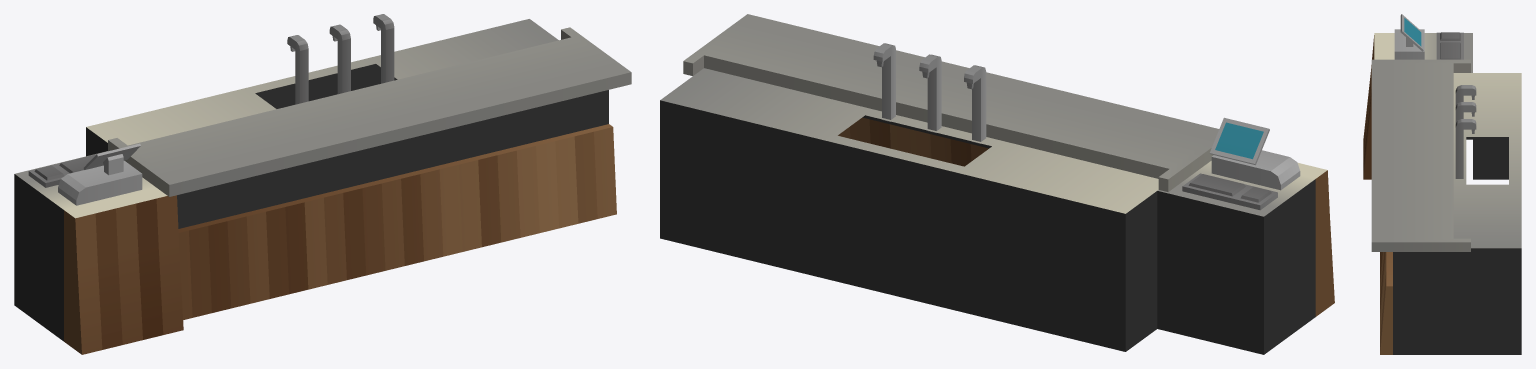
Rendered from B01_Bar_2.fbx.
The picture shows the model from 3 angles, left to right: view 1: azimuth 30°, elevation 25°; view 2: azimuth 150°, elevation 25°; view 3: azimuth 270°, elevation 25°; orthographic projection. The views are drawn at different scales.
Visible parts, largest first — view 1: B01_Bar_2; view 2: B01_Bar_2; view 3: B01_Bar_2.
Boxes of the visible parts, <box> form: B01_Bar_2: <box>14,14,631,354</box>; B01_Bar_2: <box>660,14,1334,354</box>; B01_Bar_2: <box>1363,14,1521,354</box>.
Size of the model in its own units: 374 by 130 by 114.
